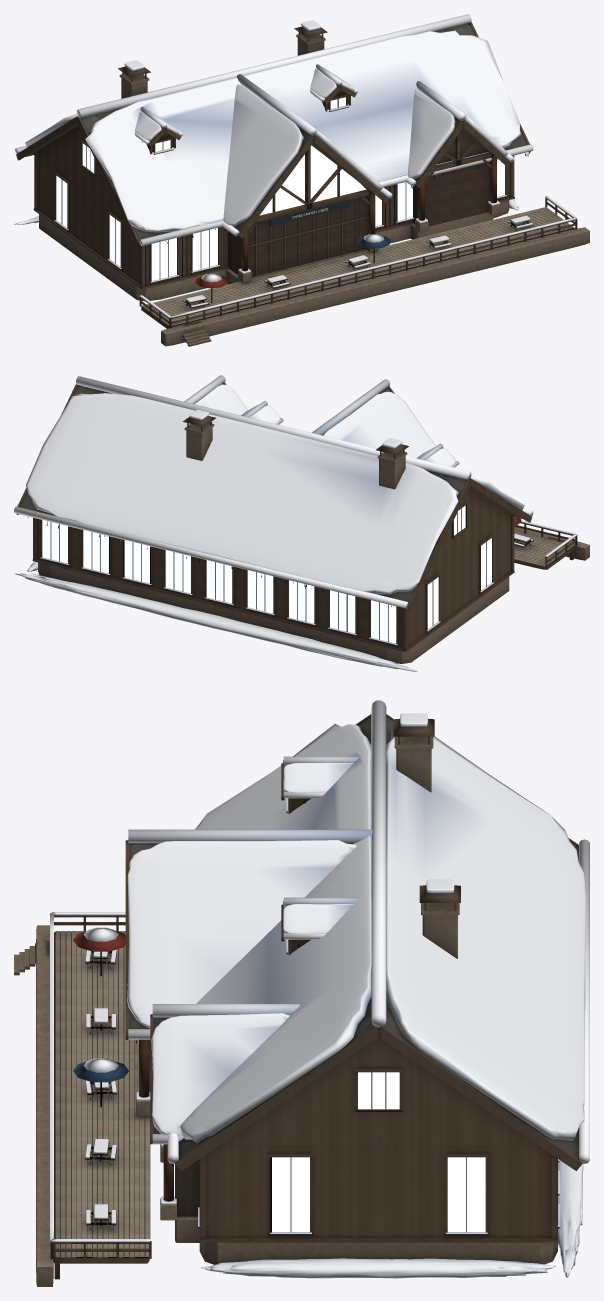
File: empire_canyon_lodge.glb
The picture shows the model from 3 angles, top to bottom: view 1: azimuth 30°, elevation 25°; view 2: azimuth 150°, elevation 25°; view 3: azimuth 270°, elevation 25°; orthographic projection. The views are drawn at different scales.
Visible parts, largest first — view 1: empire_canyon_lodge, empire_canyon_lodge_snow, empire_canyon_lodge_lit; view 2: empire_canyon_lodge_snow, empire_canyon_lodge, empire_canyon_lodge_lit; view 3: empire_canyon_lodge_snow, empire_canyon_lodge, empire_canyon_lodge_lit.
Part boxes in pixels (<box>): empire_canyon_lodge: <box>16,22,589,346</box>; empire_canyon_lodge_snow: <box>14,14,577,318</box>; empire_canyon_lodge_lit: <box>56,97,504,280</box>; empire_canyon_lodge_snow: <box>14,375,577,671</box>; empire_canyon_lodge: <box>16,382,589,663</box>; empire_canyon_lodge_lit: <box>42,505,491,643</box>; empire_canyon_lodge_snow: <box>49,700,589,1278</box>; empire_canyon_lodge: <box>14,714,582,1286</box>; empire_canyon_lodge_lit: <box>272,1072,485,1231</box>.
Size of the model in its own units: 46 by 18.84 by 32.77.
4 materials, 1 textured.
